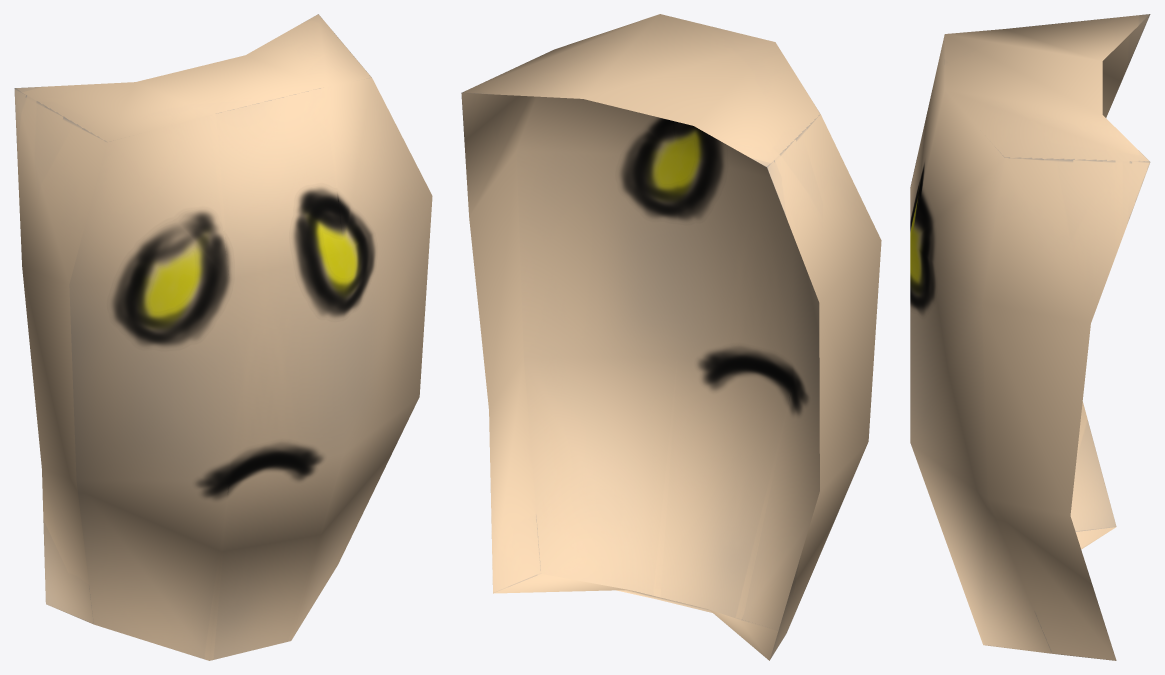
Rendered from Robo_Mask_Painted_FBX.fbx.
The picture shows the model from 3 angles, left to right: view 1: azimuth 30°, elevation 25°; view 2: azimuth 150°, elevation 25°; view 3: azimuth 270°, elevation 25°; orthographic projection.
Parts seen in each view (by area): view 1: Object001; view 2: Object001; view 3: Object001.
Part boxes in pixels (bbox=[...]): Object001: bbox=[14, 14, 432, 660]; Object001: bbox=[461, 14, 881, 660]; Object001: bbox=[910, 14, 1150, 660].
Size of the model in its own units: 46.33 by 68.83 by 26.59.
1 material, 1 textured.
